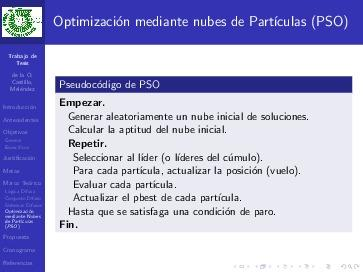paragraph: (51, 65, 355, 247)
subtitle: (56, 75, 165, 96)
title: (49, 6, 352, 36)
